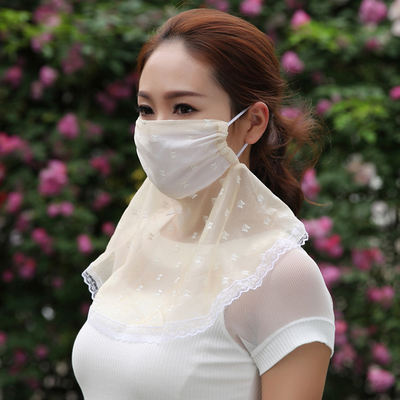face_mask: (133, 46, 238, 195)
